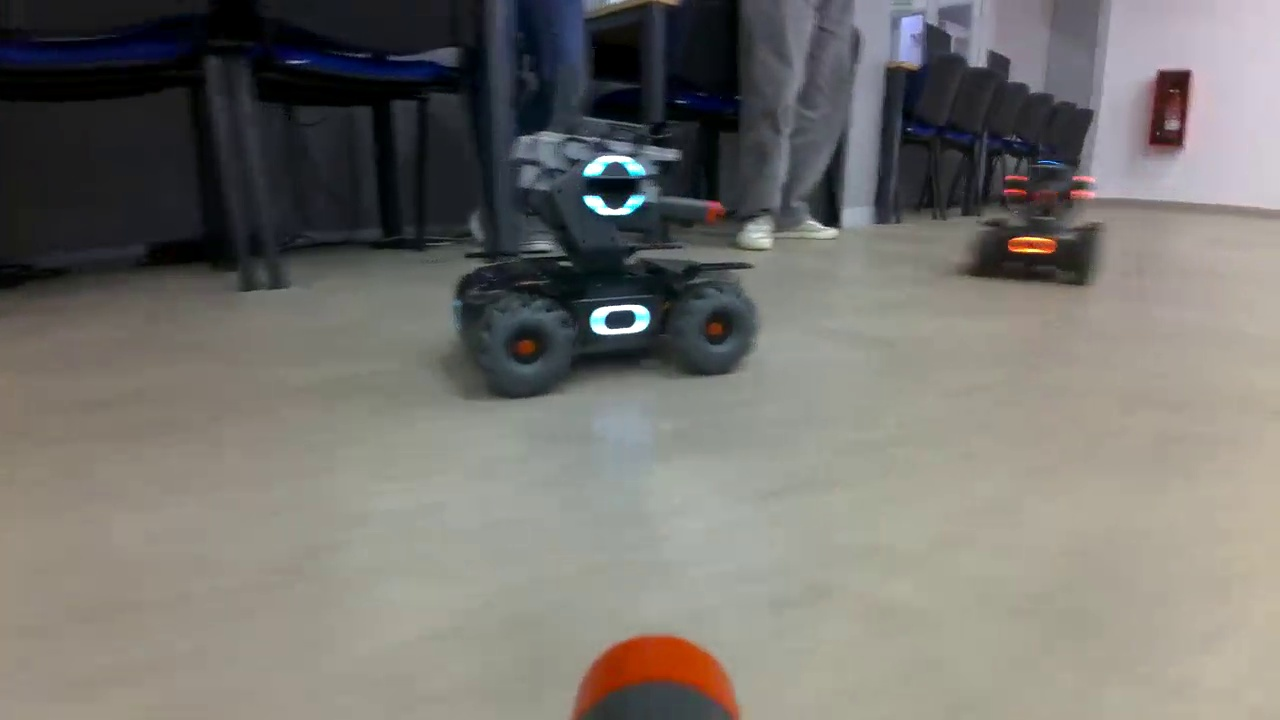robot: (450, 112, 761, 401), (974, 163, 1104, 285)
